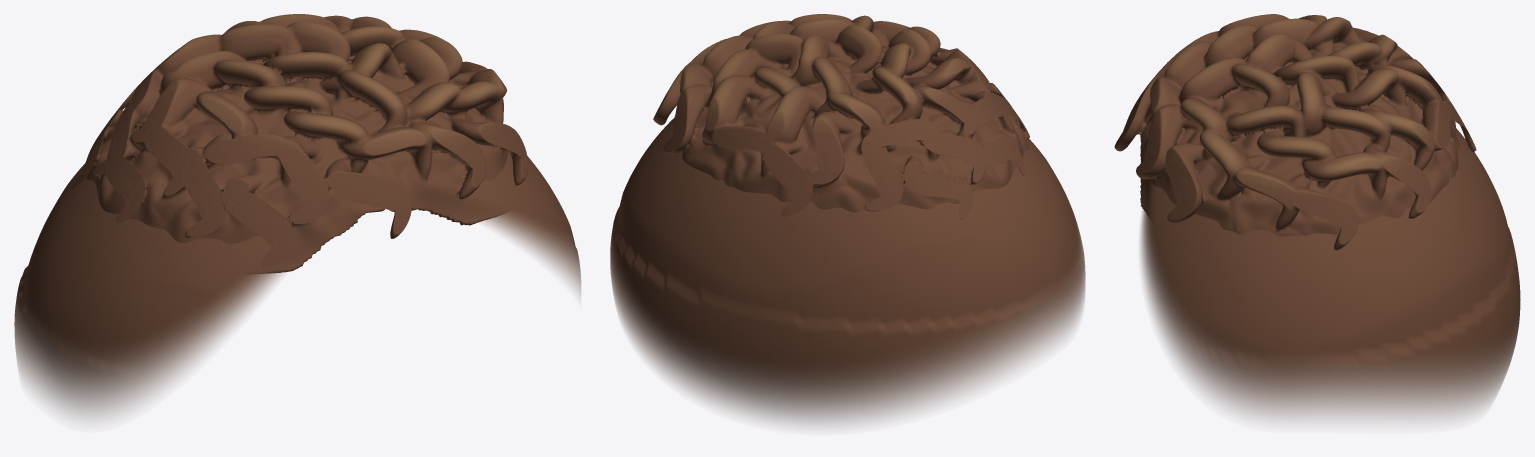
The model's file is Ombre-6bb778cf5cdc253-hair.glb.
3 renders of one model, left to right at view 1: azimuth 30°, elevation 25°; view 2: azimuth 150°, elevation 25°; view 3: azimuth 270°, elevation 25°, orthographic. The views are drawn at different scales.
Visible parts, largest first — view 1: 226 hair / Hair252 / sculpted curl groups.001, 226 hair / Hair252 / curly close fade coverage.001; view 2: 226 hair / Hair252 / curly close fade coverage.001, 226 hair / Hair252 / sculpted curl groups.001; view 3: 226 hair / Hair252 / curly close fade coverage.001, 226 hair / Hair252 / sculpted curl groups.001.
Boxes of the visible parts, x1,y1,x2,y2 form: 226 hair / Hair252 / sculpted curl groups.001: (71,14,528,273); 226 hair / Hair252 / curly close fade coverage.001: (14,152,580,418); 226 hair / Hair252 / curly close fade coverage.001: (610,118,1085,425); 226 hair / Hair252 / sculpted curl groups.001: (653,14,1029,219); 226 hair / Hair252 / curly close fade coverage.001: (1140,128,1520,420); 226 hair / Hair252 / sculpted curl groups.001: (1114,14,1476,250).
Bounding box in the file's own units: 0.976 × 0.7233 × 0.7553.
2 materials, 2 textured.
